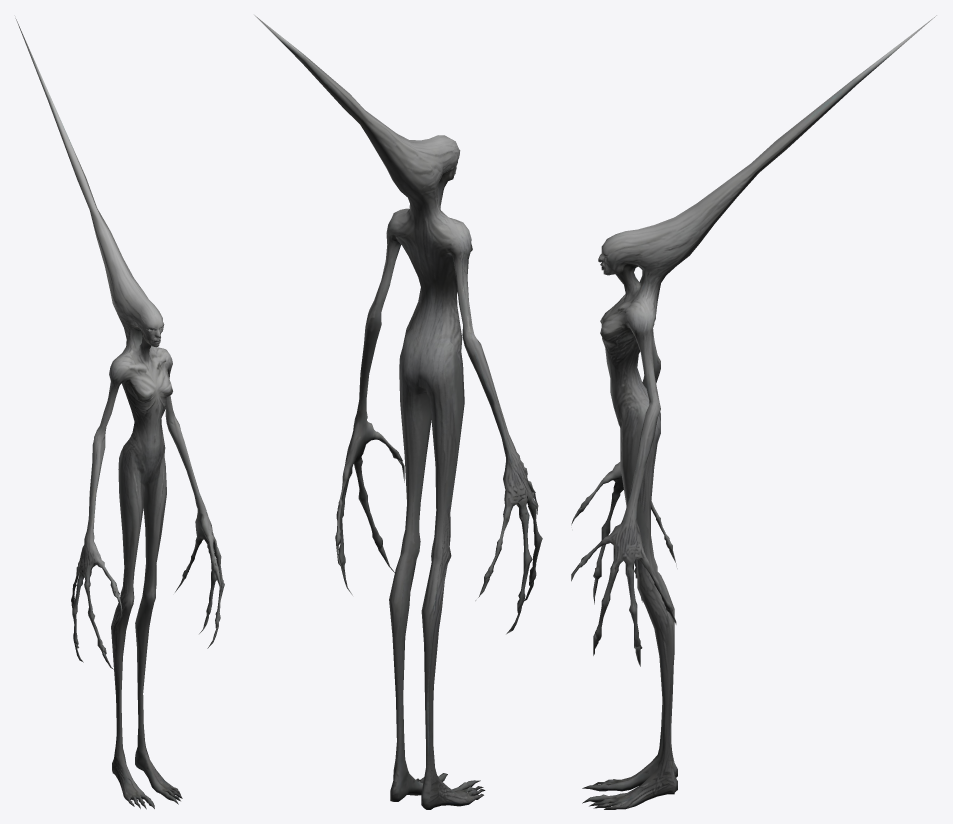
File: selected.glb
3 views of the same model, side by side, from view 1: azimuth 30°, elevation 25°; view 2: azimuth 150°, elevation 25°; view 3: azimuth 270°, elevation 25° (orthographic). The views are drawn at different scales.
Visible parts, largest first — view 1: tripo_node_7ae01b44-f08f-4bc1-a84e-4b9e30f6798f; view 2: tripo_node_7ae01b44-f08f-4bc1-a84e-4b9e30f6798f; view 3: tripo_node_7ae01b44-f08f-4bc1-a84e-4b9e30f6798f.
Part boxes in pixels (x1,y1,x2,y2): tripo_node_7ae01b44-f08f-4bc1-a84e-4b9e30f6798f: [15, 18, 224, 809]; tripo_node_7ae01b44-f08f-4bc1-a84e-4b9e30f6798f: [254, 15, 542, 809]; tripo_node_7ae01b44-f08f-4bc1-a84e-4b9e30f6798f: [571, 15, 936, 809].
Size of the model in its own units: 0.2207 by 0.998 by 0.4238.
1 material, 1 textured.
